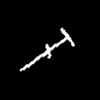double_crochet: (20, 28, 73, 70)
